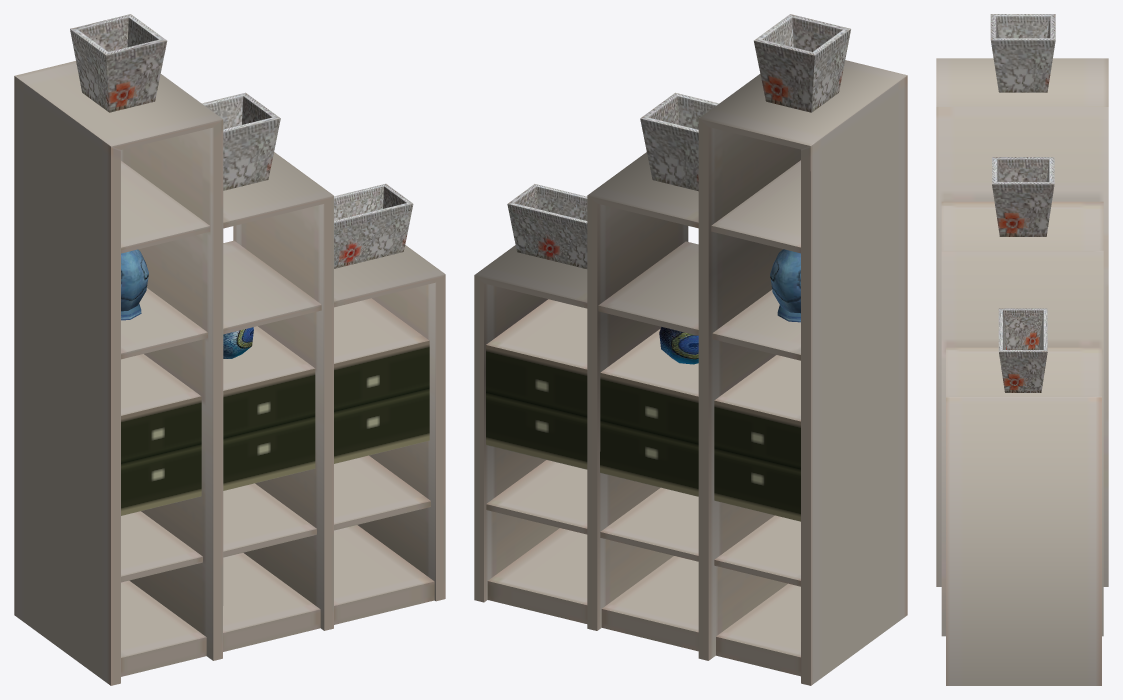
The model's file is furni_02000104_01.FBX.
3 views of the same model, side by side, from view 1: azimuth 30°, elevation 25°; view 2: azimuth 150°, elevation 25°; view 3: azimuth 270°, elevation 25° (orthographic). The views are drawn at different scales.
Parts seen in each view (by area): view 1: furni_02000104_01; view 2: furni_02000104_01; view 3: furni_02000104_01.
Part boxes in pixels (x1,y1,x2,y2): furni_02000104_01: (14,14,445,685); furni_02000104_01: (474,14,907,685); furni_02000104_01: (936,14,1108,685).
Size of the model in its own units: 142 by 239 by 69.73.
1 material, 1 textured.
